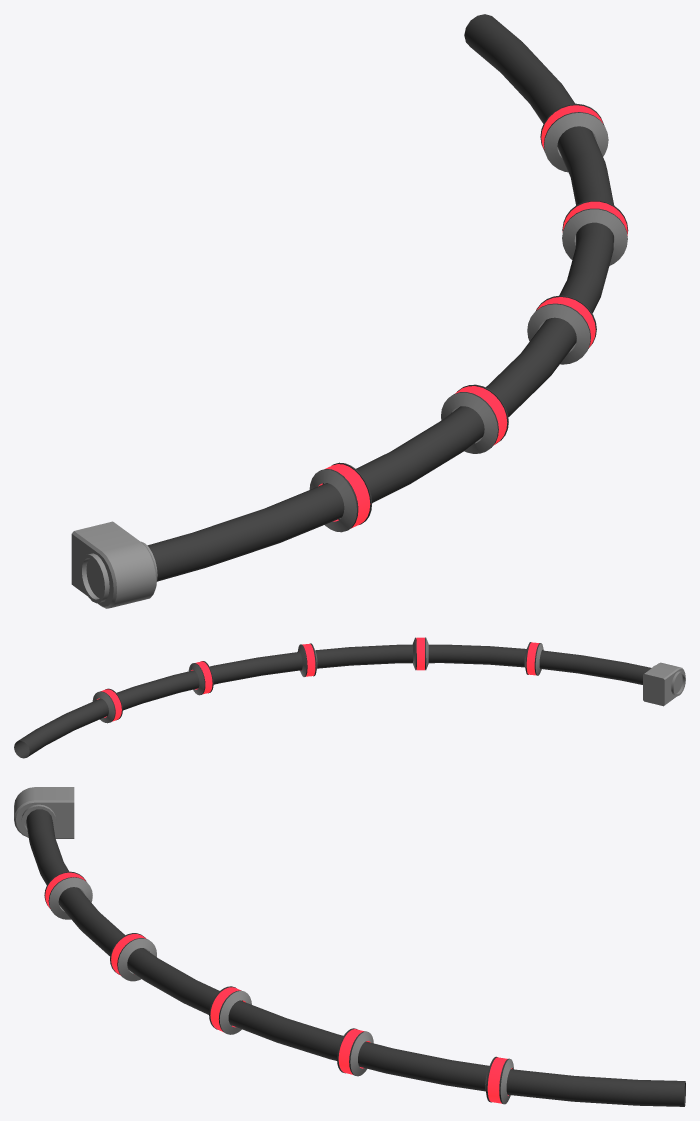
File: Red_Cable_B_rounded_full.fbx
3 renders of one model, top to bottom at view 1: azimuth 30°, elevation 25°; view 2: azimuth 150°, elevation 25°; view 3: azimuth 270°, elevation 25°, orthographic. The views are drawn at different scales.
Parts seen in each view (by area): view 1: Red_Cable_B_rounded_full.001; view 2: Red_Cable_B_rounded_full.001; view 3: Red_Cable_B_rounded_full.001.
Part boxes in pixels (<box>): Red_Cable_B_rounded_full.001: <box>71,14,628,608</box>; Red_Cable_B_rounded_full.001: <box>14,637,685,758</box>; Red_Cable_B_rounded_full.001: <box>14,787,685,1106</box>.
Size of the model in its own units: 4.01 by 0.2624 by 3.85.
